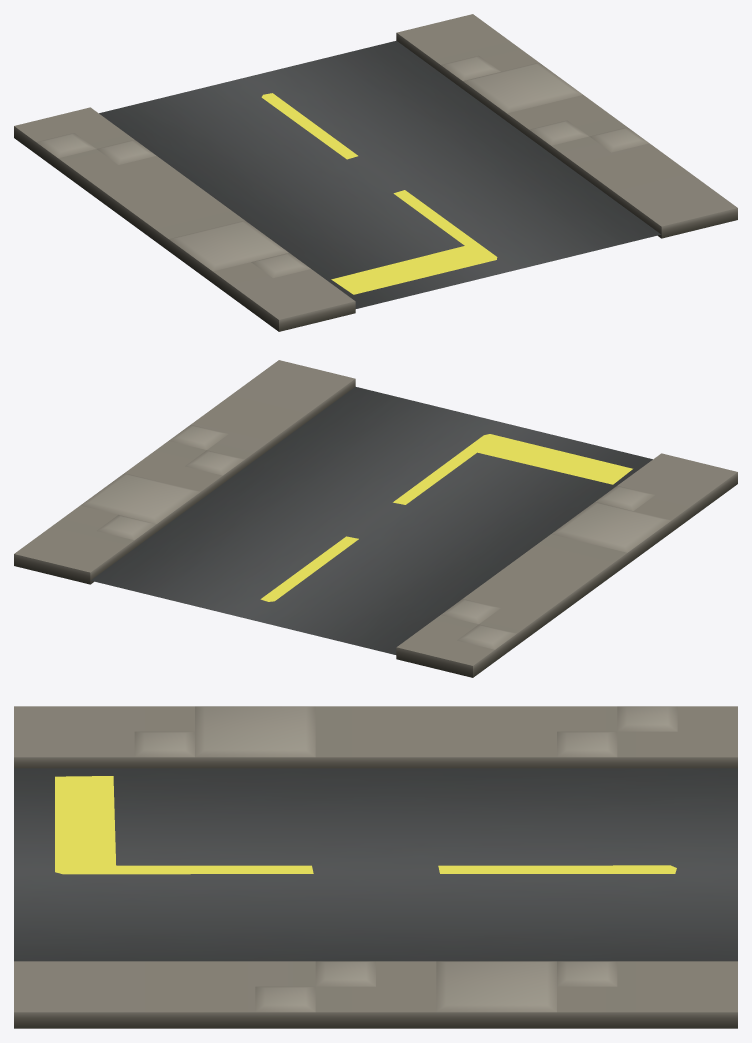
File: Road_1F.fbx
3 views of the same model, one above another, from view 1: azimuth 30°, elevation 25°; view 2: azimuth 150°, elevation 25°; view 3: azimuth 270°, elevation 25° (orthographic). The views are drawn at different scales.
Visible parts, largest first — view 1: Road_1F; view 2: Road_1F; view 3: Road_1F.
Part boxes in pixels (x1,y1,x2,y2): Road_1F: (14,14,737,331); Road_1F: (14,360,737,677); Road_1F: (14,706,737,1028).
Size of the model in its own units: 12 by 0.3565 by 12.
